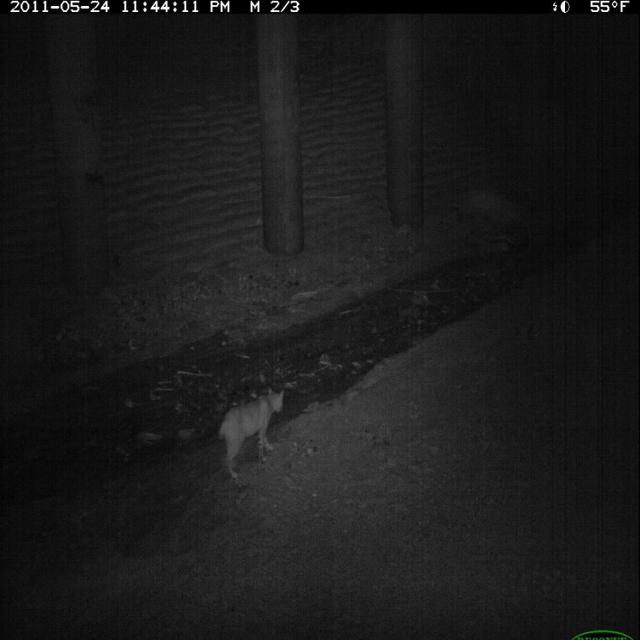bobcat: (213, 381, 290, 486)
